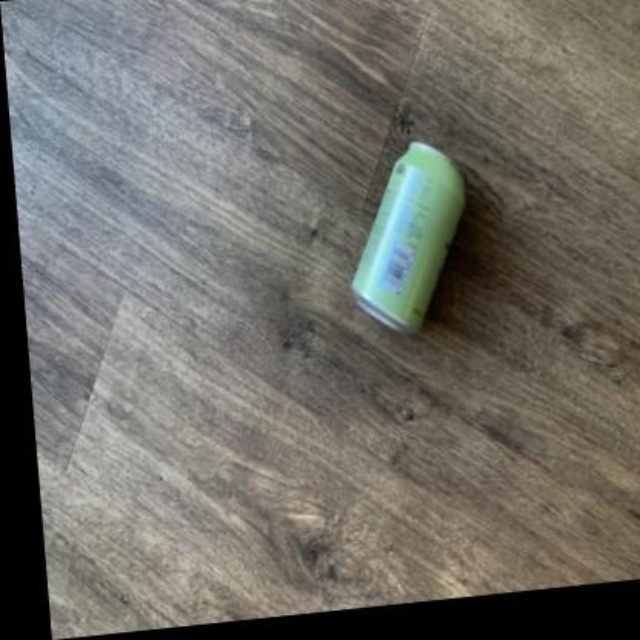trash: (352, 142, 463, 331)
